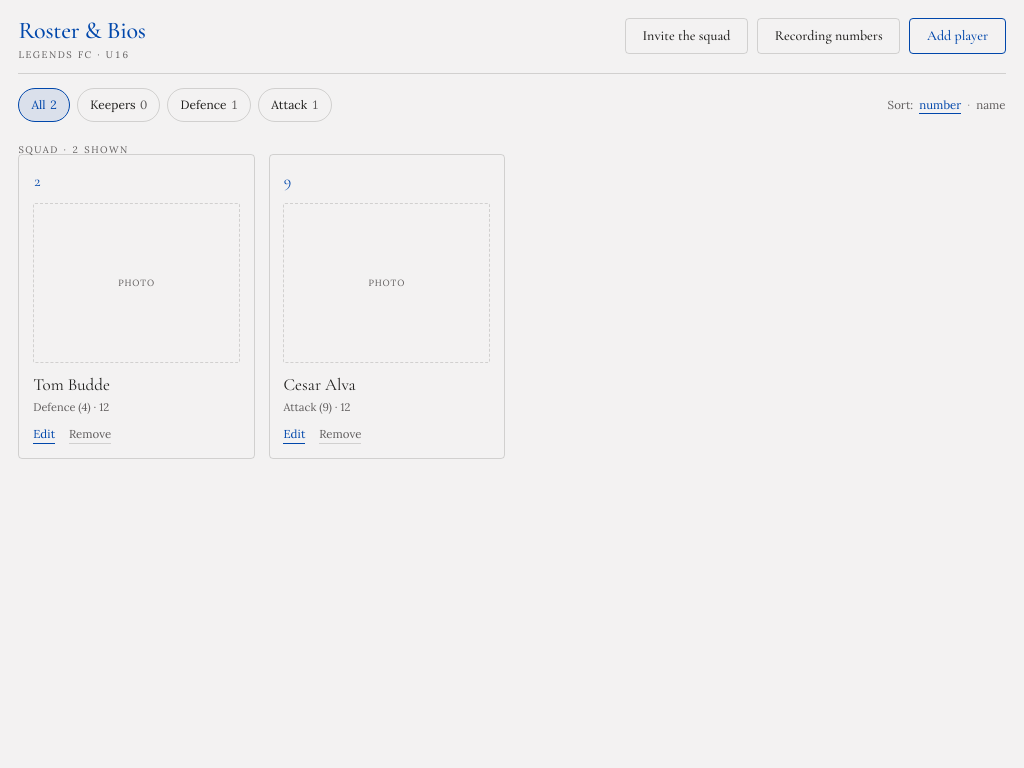
Test: recording numbers › opens on the squad, proposing nothing until asked
# Nothing renumbers a squad on its own.
Click the button "Recording numbers" at point(829, 36), box [757,18,900,54]
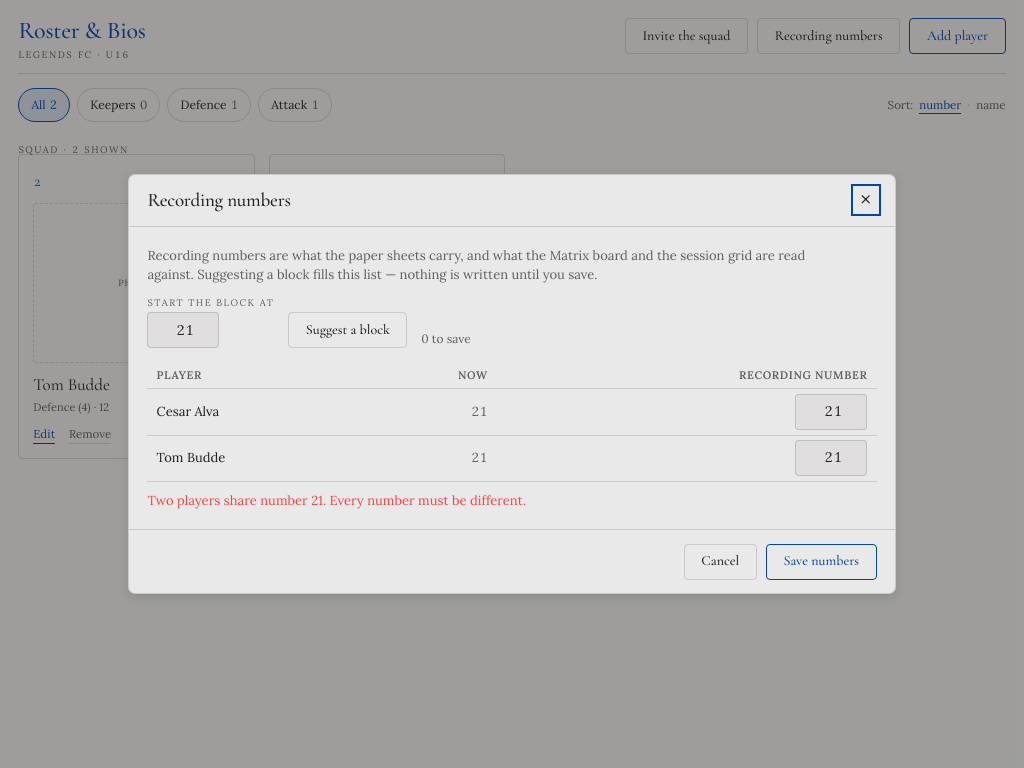
Check: the button "Suggest a block" is shown, box [288,312,407,348]
Check: the text "0 to save" is shown, box [421,330,471,348]
